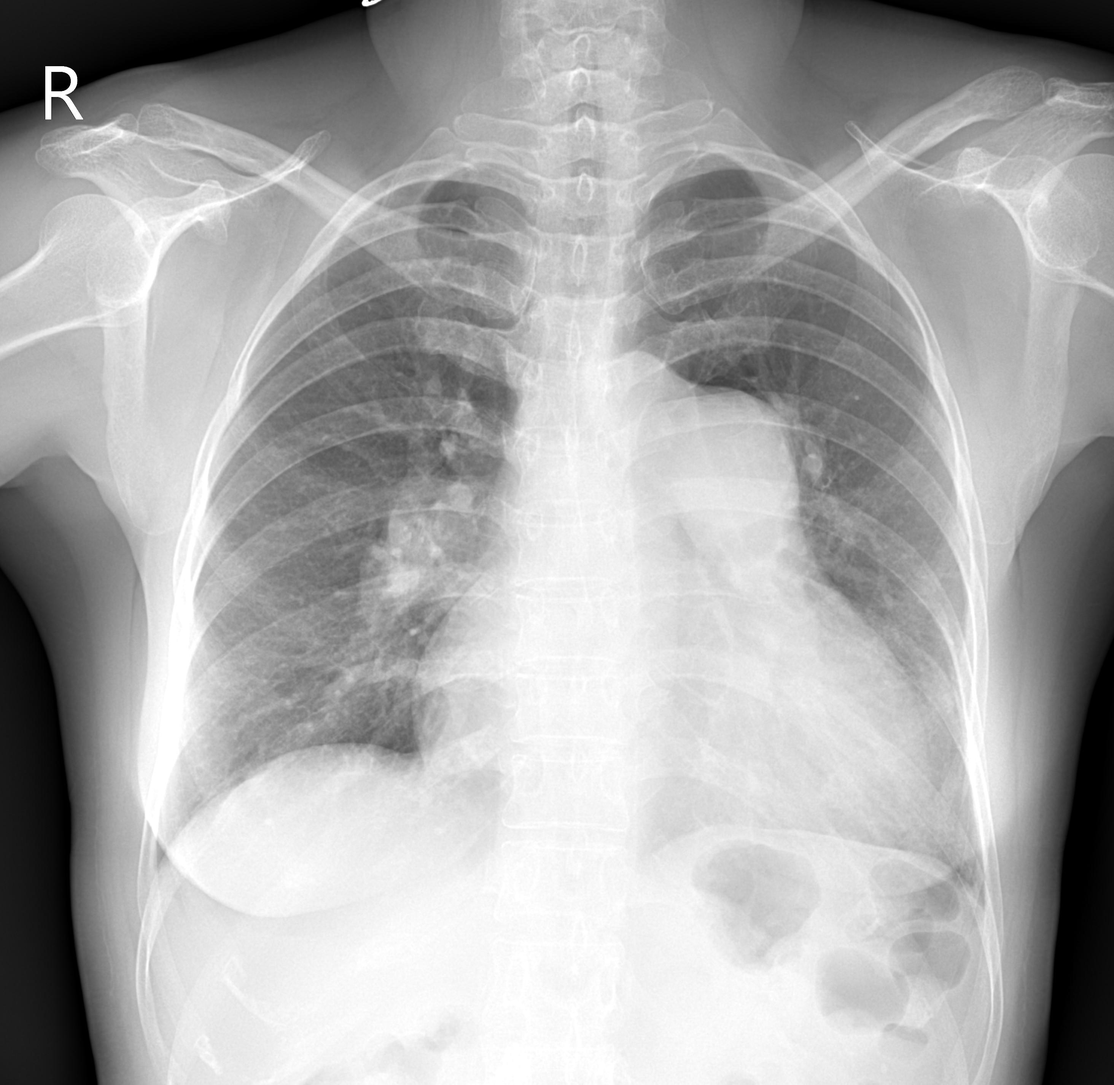Cardiomegaly: (409, 630, 933, 859)
